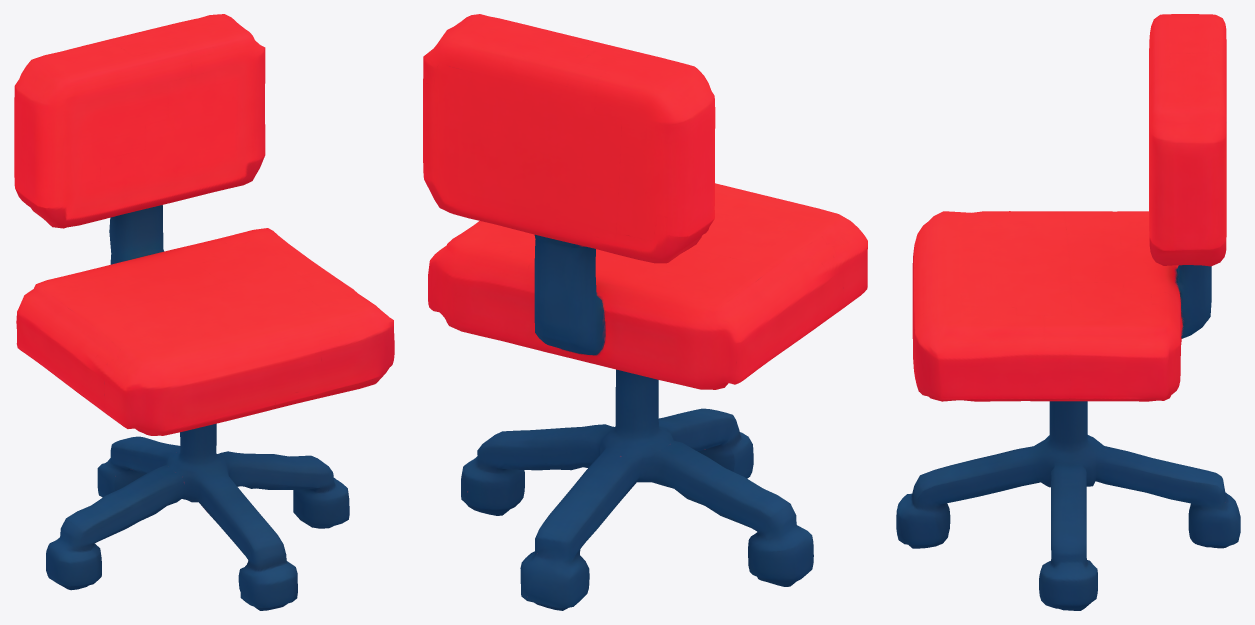
File: 07-chair.fbx
3 renders of one model, left to right at view 1: azimuth 30°, elevation 25°; view 2: azimuth 150°, elevation 25°; view 3: azimuth 270°, elevation 25°, orthographic. The views are drawn at different scales.
Parts seen in each view (by area): view 1: model; view 2: model; view 3: model.
Part boxes in pixels (x1=…): model: x1=14, y1=14, x2=394, y2=610; model: x1=423, y1=14, x2=867, y2=610; model: x1=896, y1=14, x2=1240, y2=610.
Size of the model in its own units: 124 by 190 by 123.
